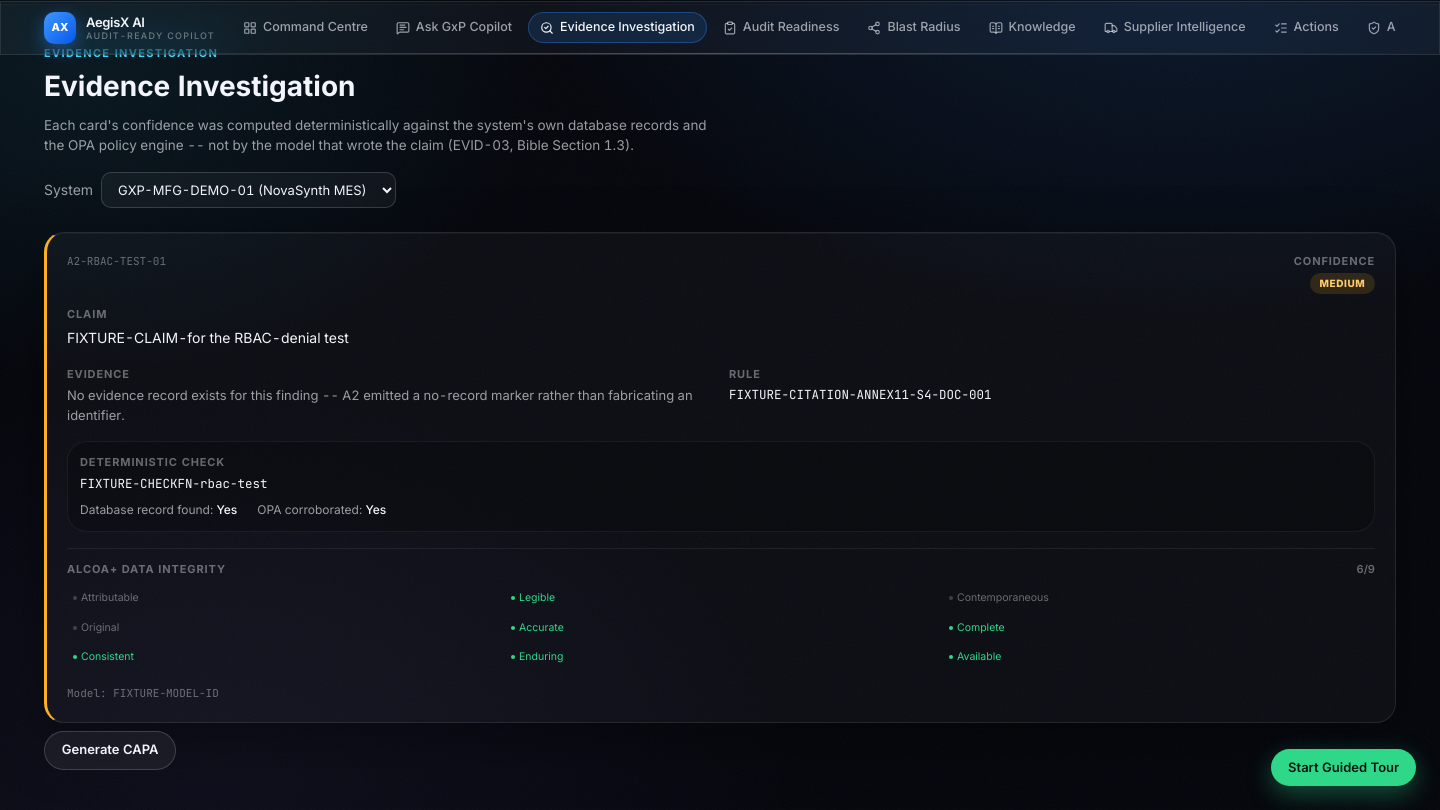
Test: FindingInvestigation Generate CAPA RBAC denial › shows the UI contract permission sentence verbatim on a 403 from generateCapa
The width and height of the screenshot is (1440, 810).
(page scrolled)
Click the button "Generate CAPA": point(110, 750) [44,731,176,770]
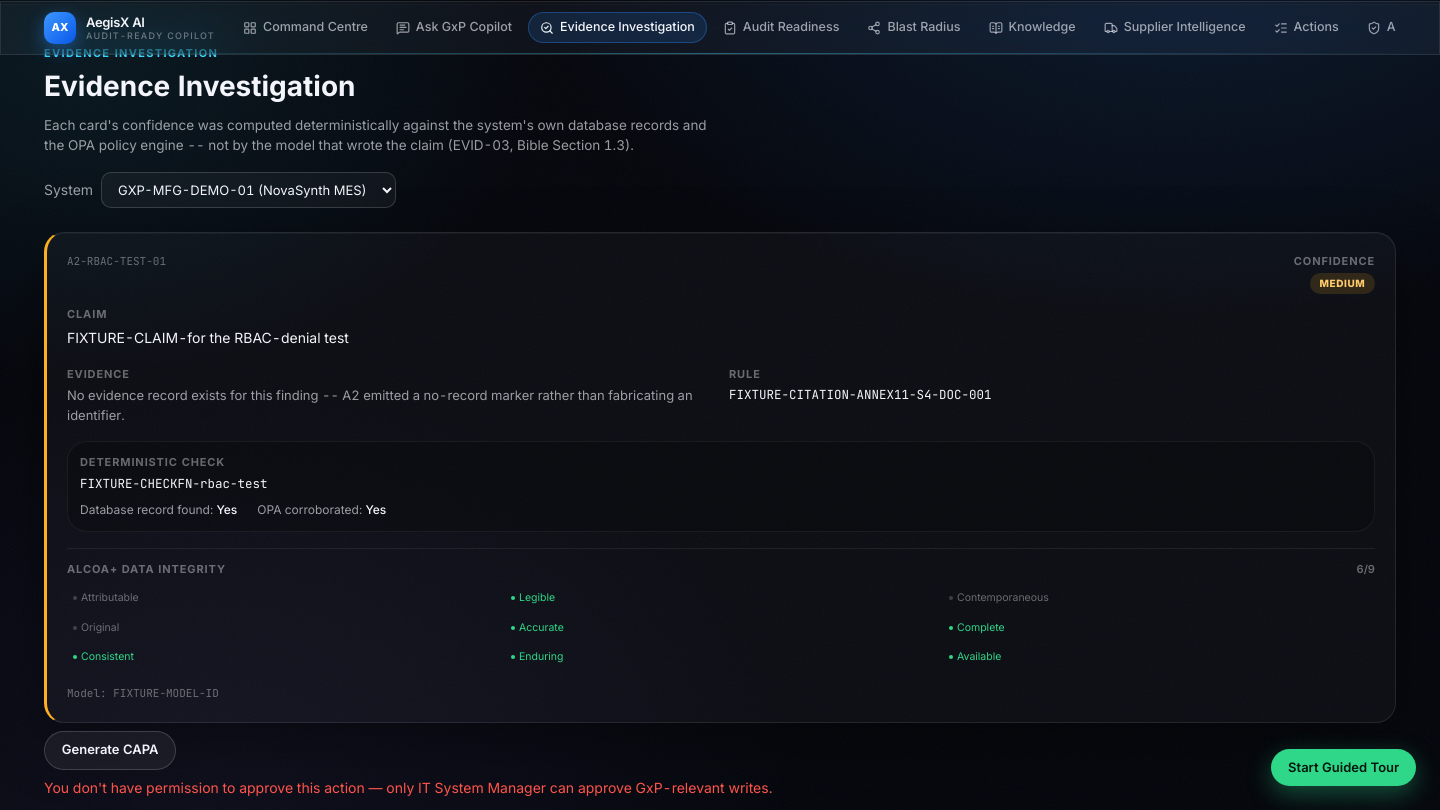
Expected: the text "You don't have permission to approve this action — only IT System Manager can approve GxP-relevant writes." is shown, [44,779,772,796]
